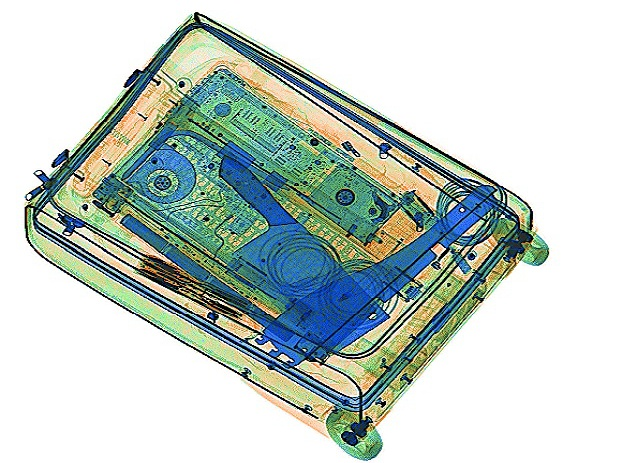knife: (217, 153, 391, 360)
